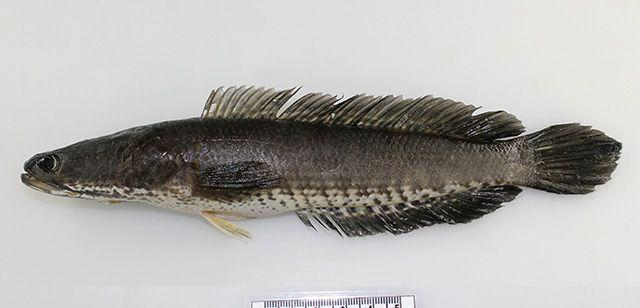Mudfish: (18, 83, 622, 230)
